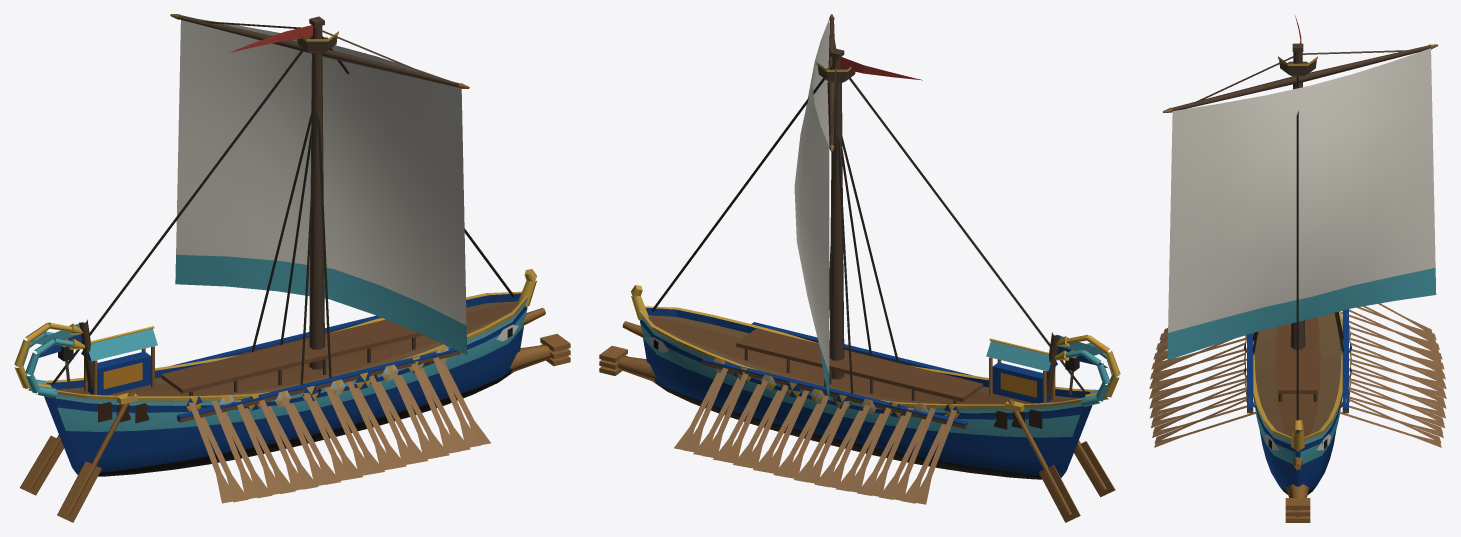
File: titan_rlusd.glb
3 renders of one model, left to right at view 1: azimuth 30°, elevation 25°; view 2: azimuth 150°, elevation 25°; view 3: azimuth 270°, elevation 25°, orthographic. The views are drawn at different scales.
Visible parts, largest first — view 1: sail_main, hull, oars, deck, mast, rigging, yards, stern_windows, flag; view 2: hull, oars, deck, sail_main, rigging, mast, stern_windows, flag, yards; view 3: sail_main, hull, oars, deck, yards, rigging, mast.
Part boxes in pixels (left/top/right/bottom): sail_main: left=175, top=19, right=467, bottom=354; hull: left=14, top=269, right=570, bottom=476; oars: left=188, top=357, right=490, bottom=503; deck: left=20, top=319, right=423, bottom=522; mast: left=79, top=16, right=338, bottom=388; rigging: left=51, top=34, right=514, bottom=384; yards: left=170, top=14, right=469, bottom=88; stern_windows: left=98, top=362, right=149, bottom=423; flag: left=31, top=25, right=313, bottom=357; hull: left=599, top=285, right=1120, bottom=479; oars: left=674, top=367, right=957, bottom=504; deck: left=736, top=328, right=1115, bottom=522; sail_main: left=794, top=19, right=829, bottom=401; rigging: left=651, top=66, right=1085, bottom=393; mast: left=816, top=48, right=1059, bottom=397; stern_windows: left=994, top=372, right=1042, bottom=429; flag: left=840, top=57, right=1107, bottom=367; yards: left=827, top=14, right=837, bottom=151; sail_main: left=1167, top=48, right=1436, bottom=360; hull: left=1243, top=309, right=1352, bottom=522; oars: left=1149, top=303, right=1446, bottom=447; deck: left=1278, top=317, right=1317, bottom=401; yards: left=1163, top=44, right=1438, bottom=112; rigging: left=1252, top=61, right=1343, bottom=433; mast: left=1278, top=43, right=1317, bottom=349.
Bounding box in the file's own units: 24.96 × 18.48 × 12.72.
